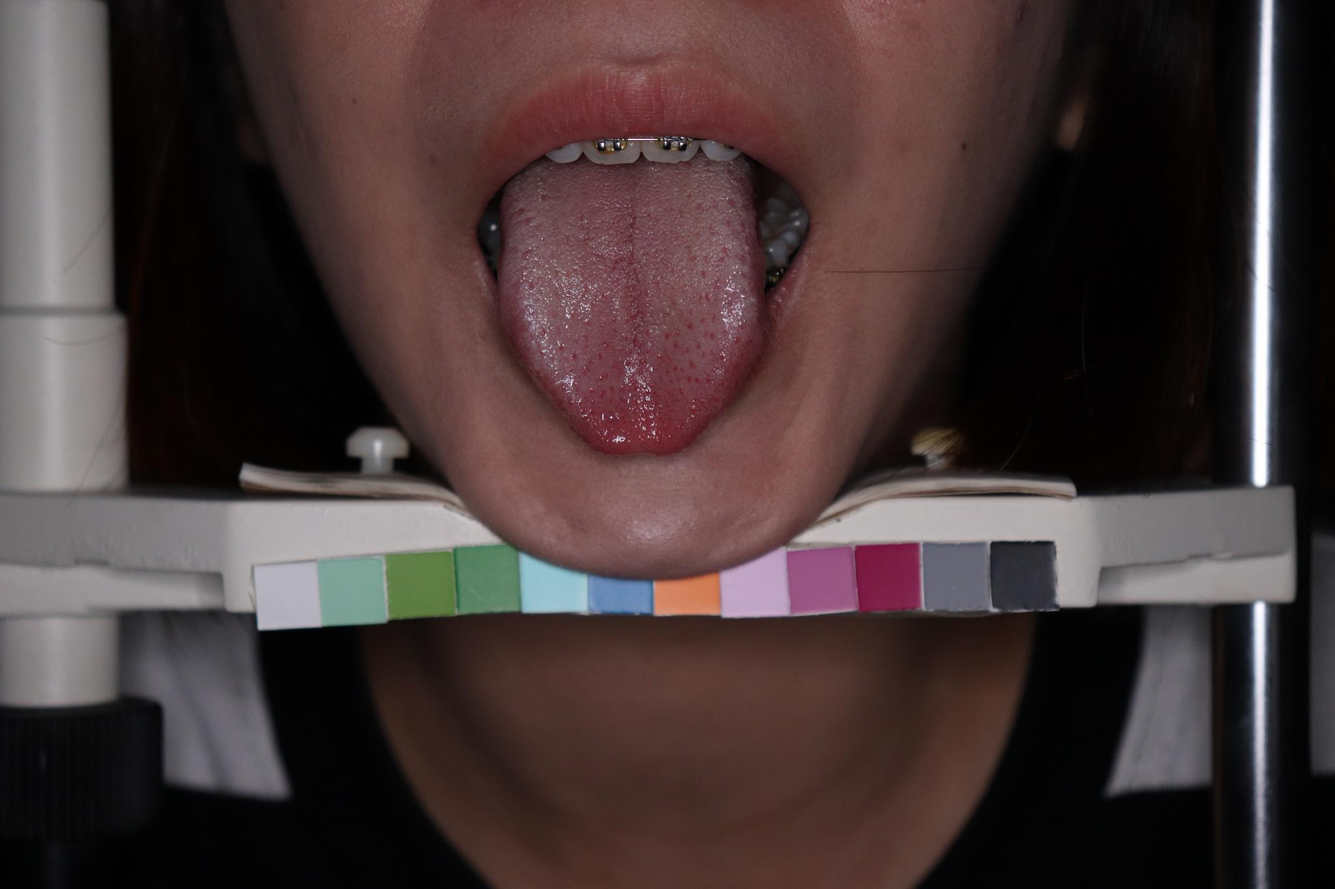baitaishe: (498, 144, 764, 457)
hongdianshe: (570, 349, 577, 361), (692, 374, 700, 383), (594, 350, 601, 360), (597, 371, 604, 381), (587, 386, 596, 393), (598, 388, 605, 397), (705, 374, 711, 384), (654, 352, 661, 360), (664, 330, 670, 339), (619, 382, 624, 392), (672, 340, 678, 347)
hongshe: (498, 144, 764, 457)
